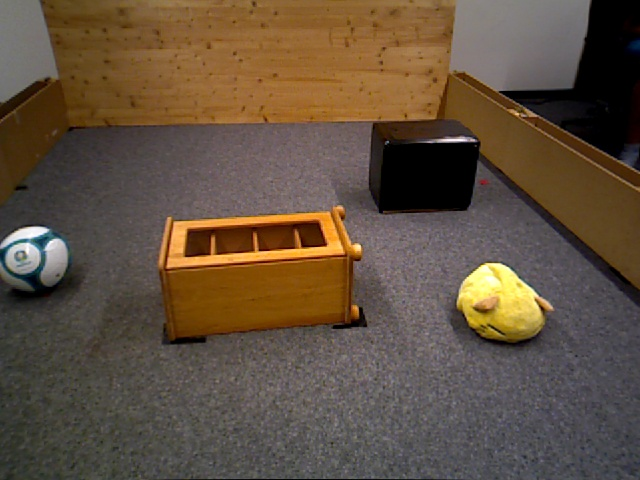grasp: (458, 261, 548, 348)
kick: (1, 225, 71, 296)
push: (370, 120, 480, 213)
